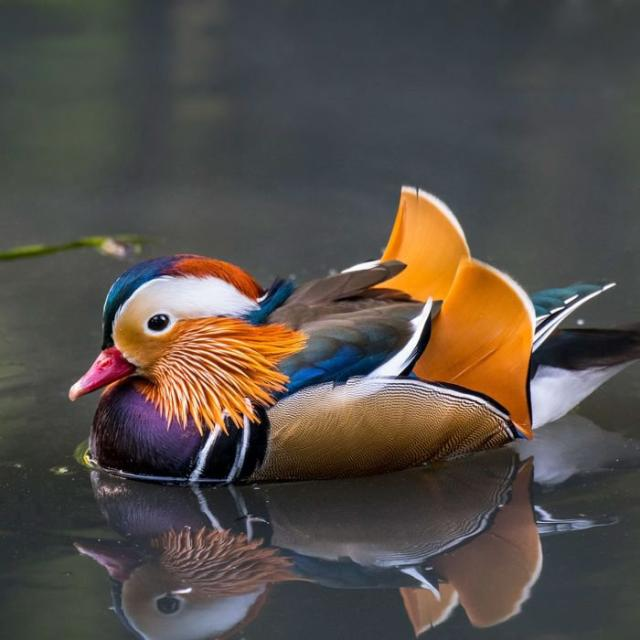Duck: (62, 176, 548, 477)
